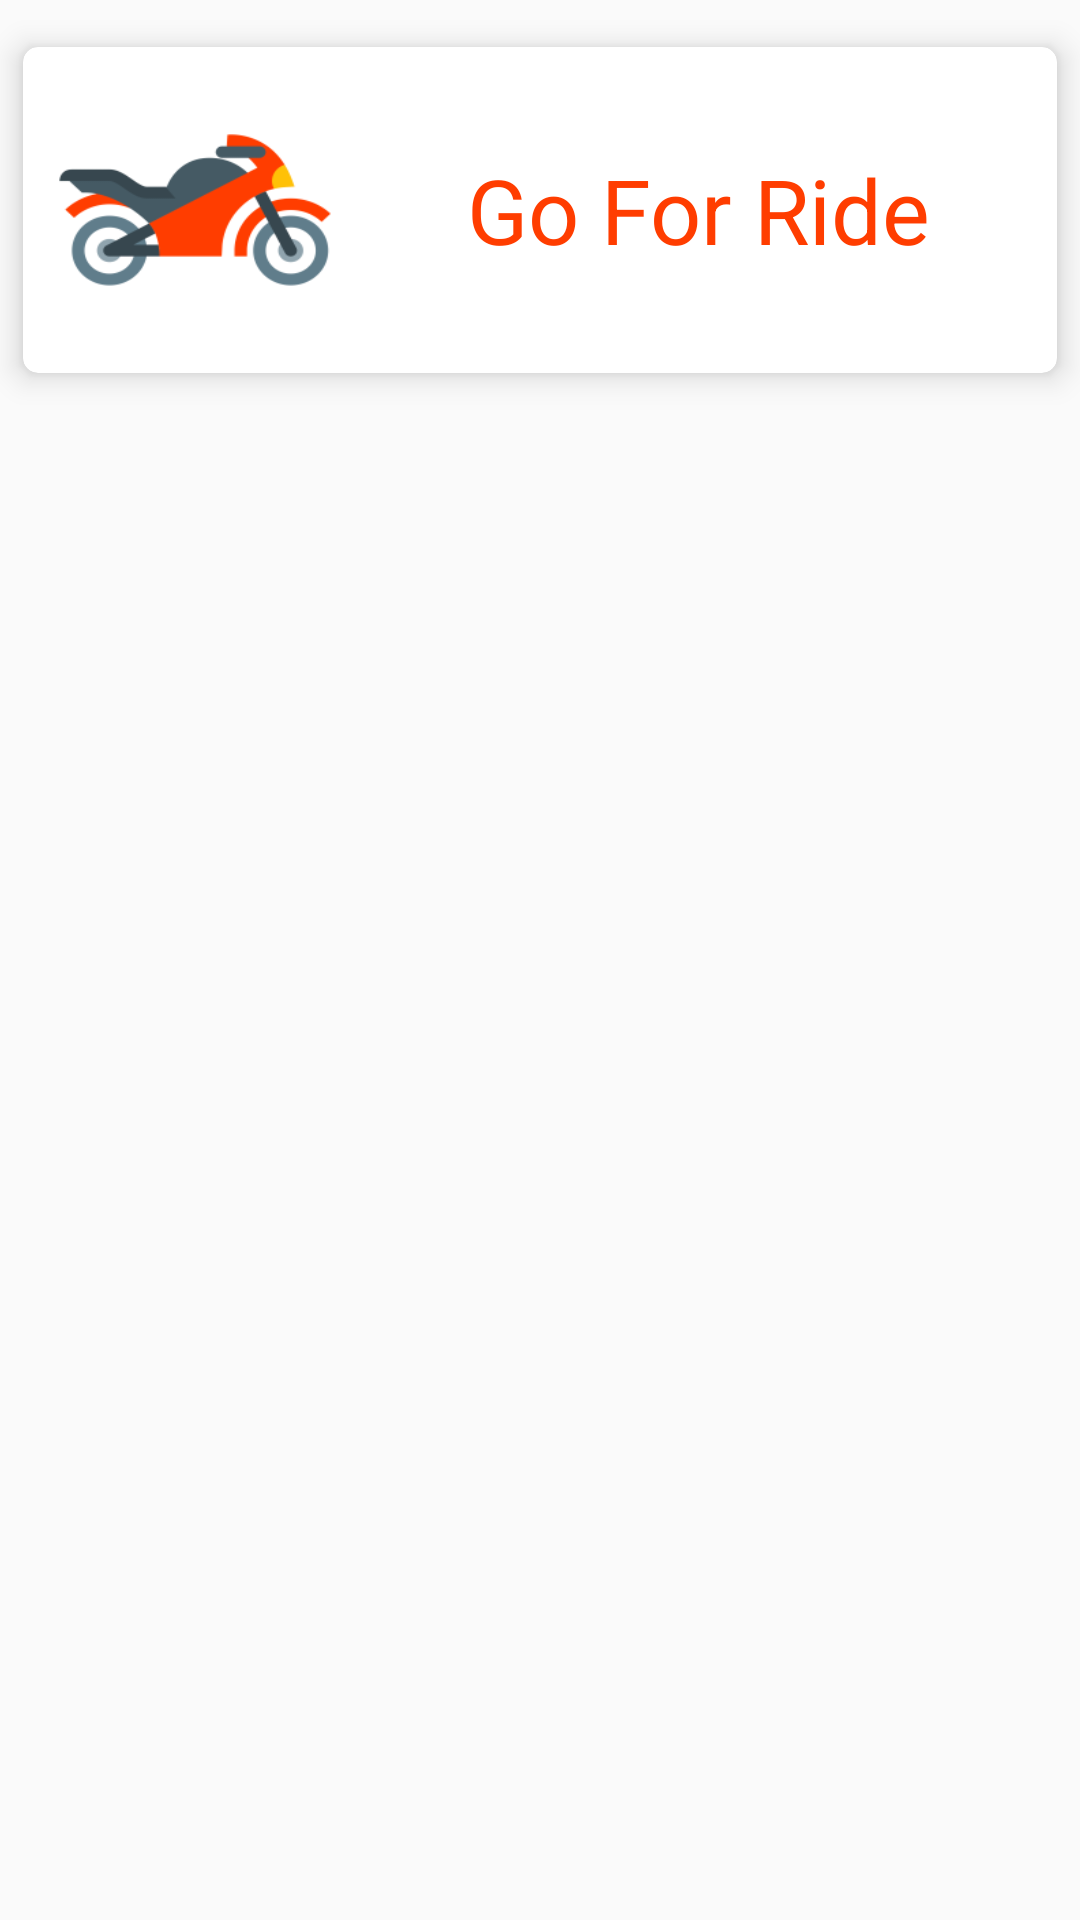

Screen size 1080w x 1920h. Icon name, then its center in pixels as [x,y]:
motor: [195,210]
